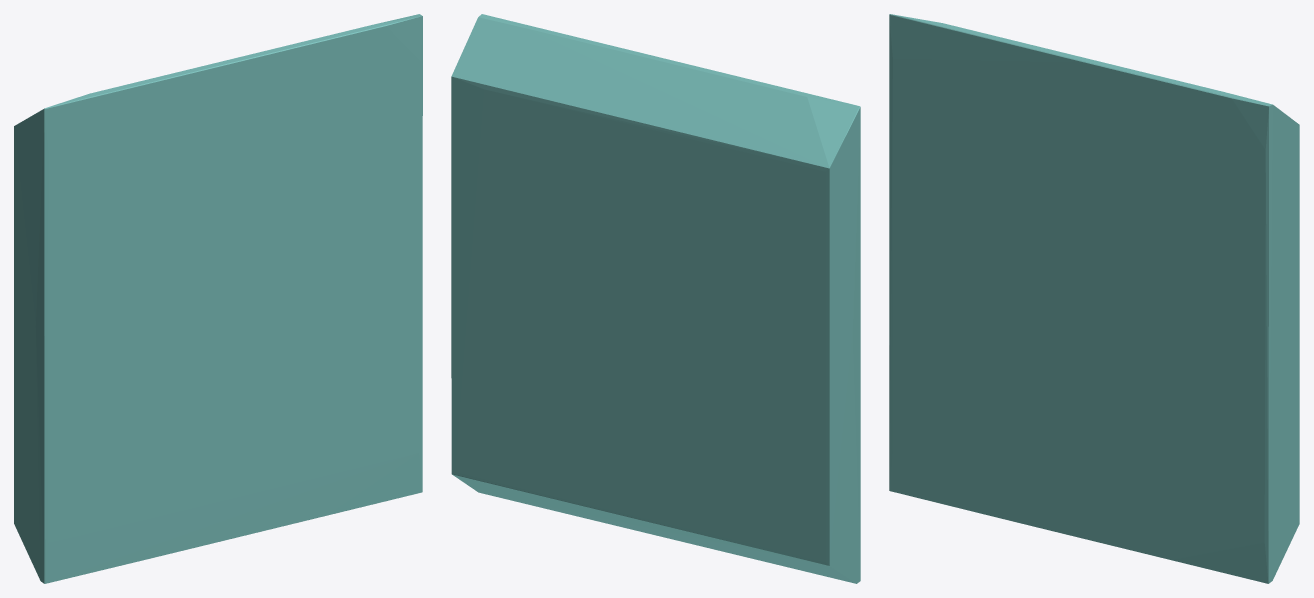
The model's file is pallet_block_a04.glb.
The picture shows the model from 3 angles, left to right: view 1: azimuth 30°, elevation 25°; view 2: azimuth 150°, elevation 25°; view 3: azimuth 330°, elevation 25°; orthographic projection.
Parts seen in each view (by area): view 1: geometry_0; view 2: geometry_0; view 3: geometry_0.
Part boxes in pixels (<box>): geometry_0: <box>14,14,422,583</box>; geometry_0: <box>451,14,860,583</box>; geometry_0: <box>889,14,1299,583</box>.
Size of the model in its own units: 0.4002 by 0.48 by 0.0564.
